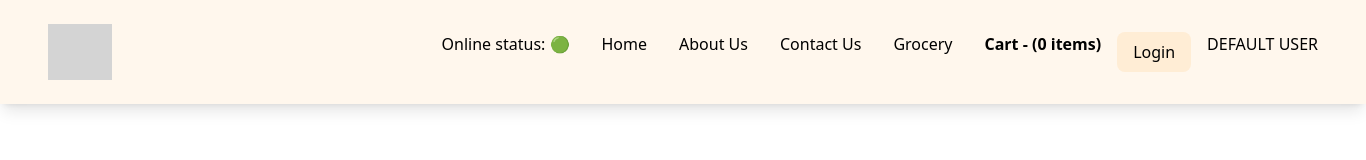
Scenario: Should change the login button to logout
Click the button "Login": (1154, 52) [1117, 32, 1191, 72]
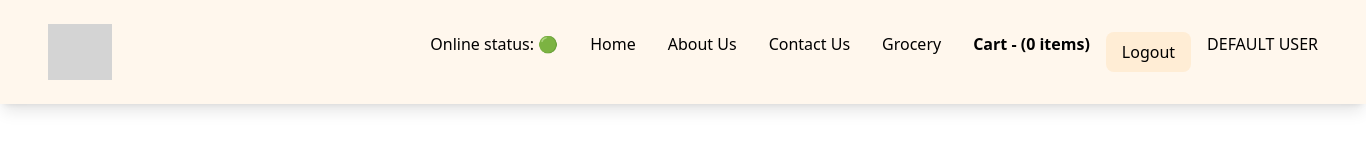
Expected: the button "Logout" is shown, [1106, 32, 1191, 72]
